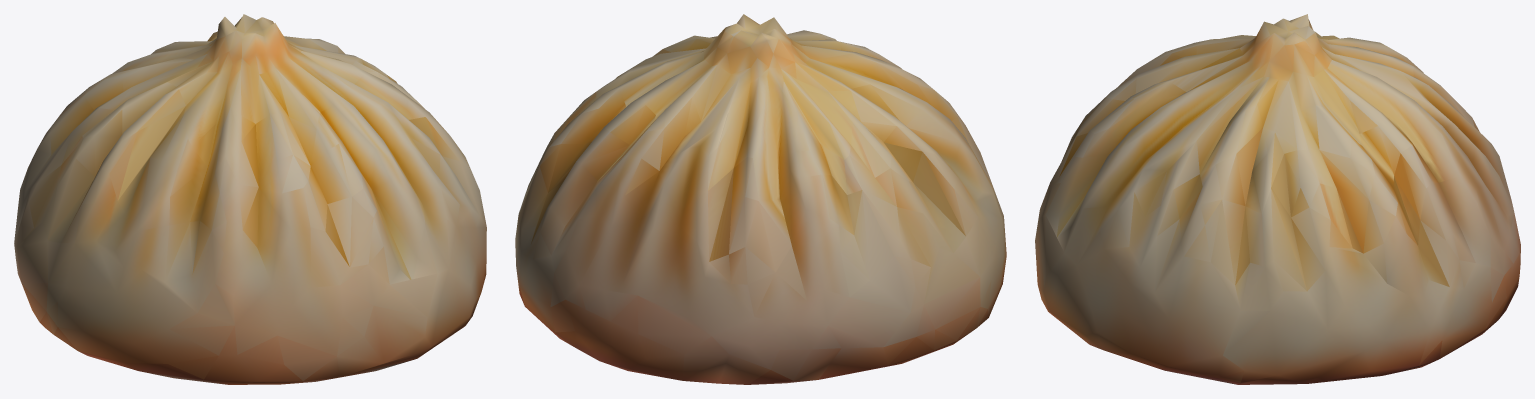
The model's file is c肉包.fbx.
3 views of the same model, side by side, from view 1: azimuth 30°, elevation 25°; view 2: azimuth 150°, elevation 25°; view 3: azimuth 270°, elevation 25° (orthographic). The views are drawn at different scales.
Visible parts, largest first — view 1: material; view 2: material; view 3: material.
Boxes of the visible parts, x1=… form: material: x1=14, y1=14, x2=486, y2=384; material: x1=515, y1=14, x2=1006, y2=384; material: x1=1035, y1=14, x2=1520, y2=384.
Bounding box in the file's own units: 104 × 63.29 × 104.
Materials: 1 (1 with a texture image).
